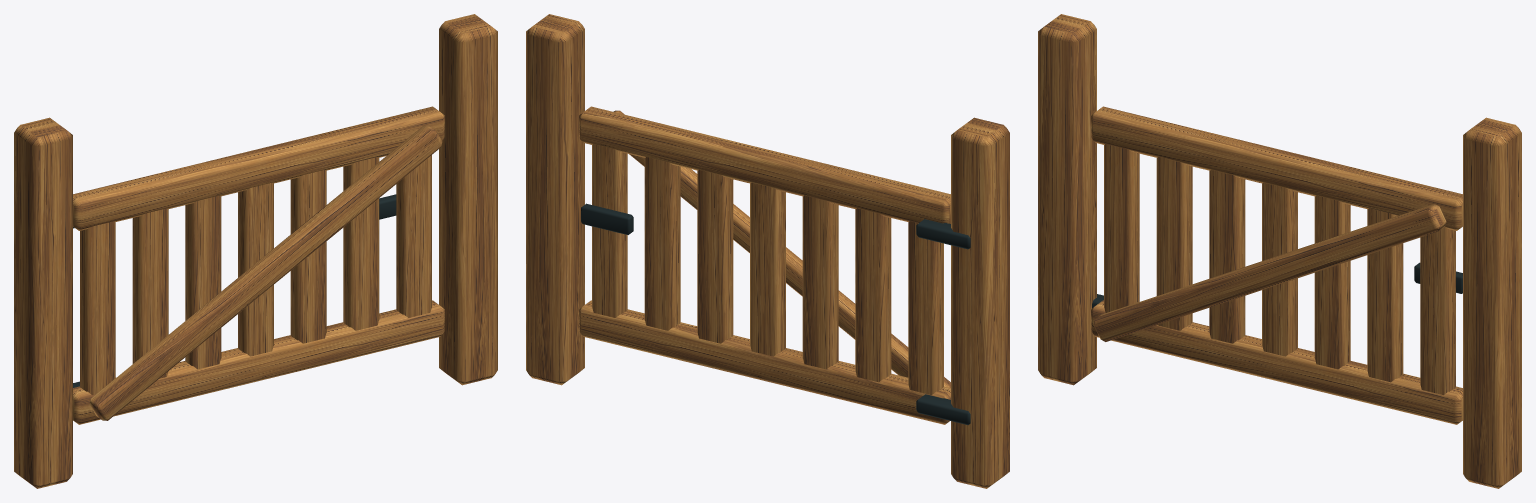
The model's file is 13_Portilla.obj.
The picture shows the model from 3 angles, left to right: view 1: azimuth 30°, elevation 25°; view 2: azimuth 150°, elevation 25°; view 3: azimuth 330°, elevation 25°; orthographic projection.
Parts seen in each view (by area): view 1: 13_Portilla_Wood; view 2: 13_Portilla_Wood, 13_Portilla_Iron; view 3: 13_Portilla_Wood.
Part boxes in pixels (x1=…): 13_Portilla_Wood: x1=14, y1=14, x2=497, y2=488; 13_Portilla_Wood: x1=526, y1=14, x2=1009, y2=488; 13_Portilla_Iron: x1=581, y1=203, x2=970, y2=424; 13_Portilla_Wood: x1=1038, y1=14, x2=1521, y2=488.
Bounding box in the file's own units: 1.89 × 1.36 × 0.2025.
2 materials, 1 textured.
